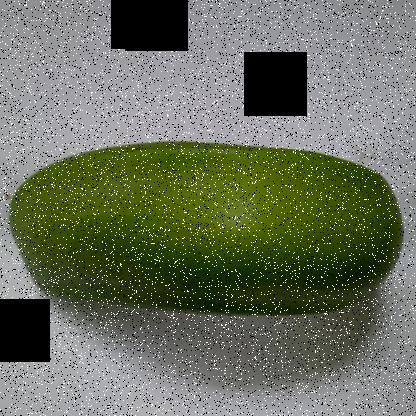freshunripe: (5, 122, 409, 330)
